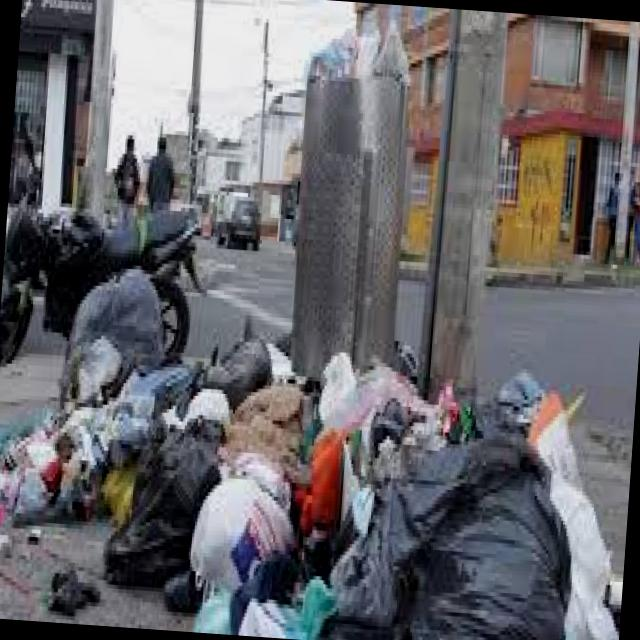garbage: (0, 252, 634, 640)
